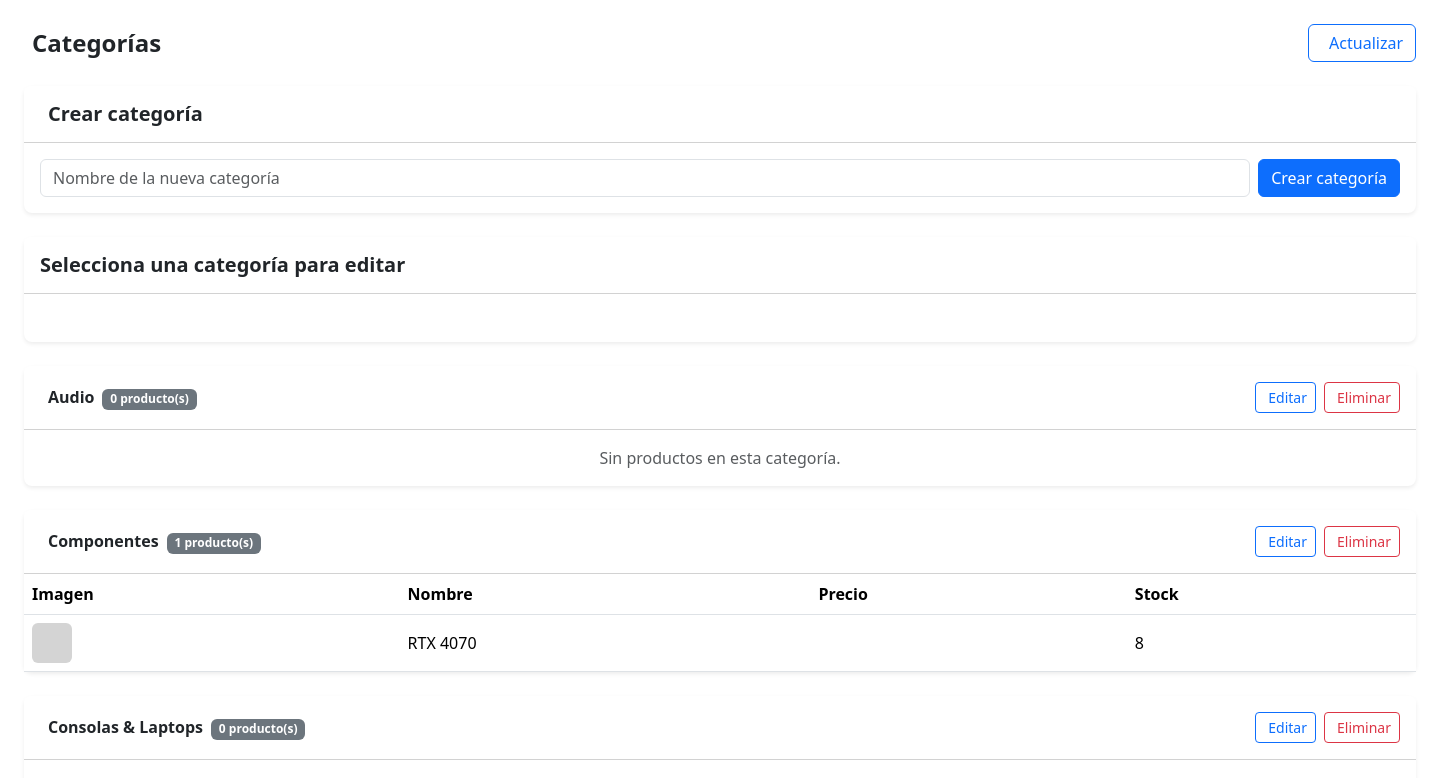
AdminCategorias › crear › al crear vacía el campo y vuelve a cargar las tablas
The image size is (1440, 778).
Type "Redes" into the field with placeholder "Nombre de la nueva categoría".
click(645, 178); type("Redes")  # box [40, 159, 1250, 197]
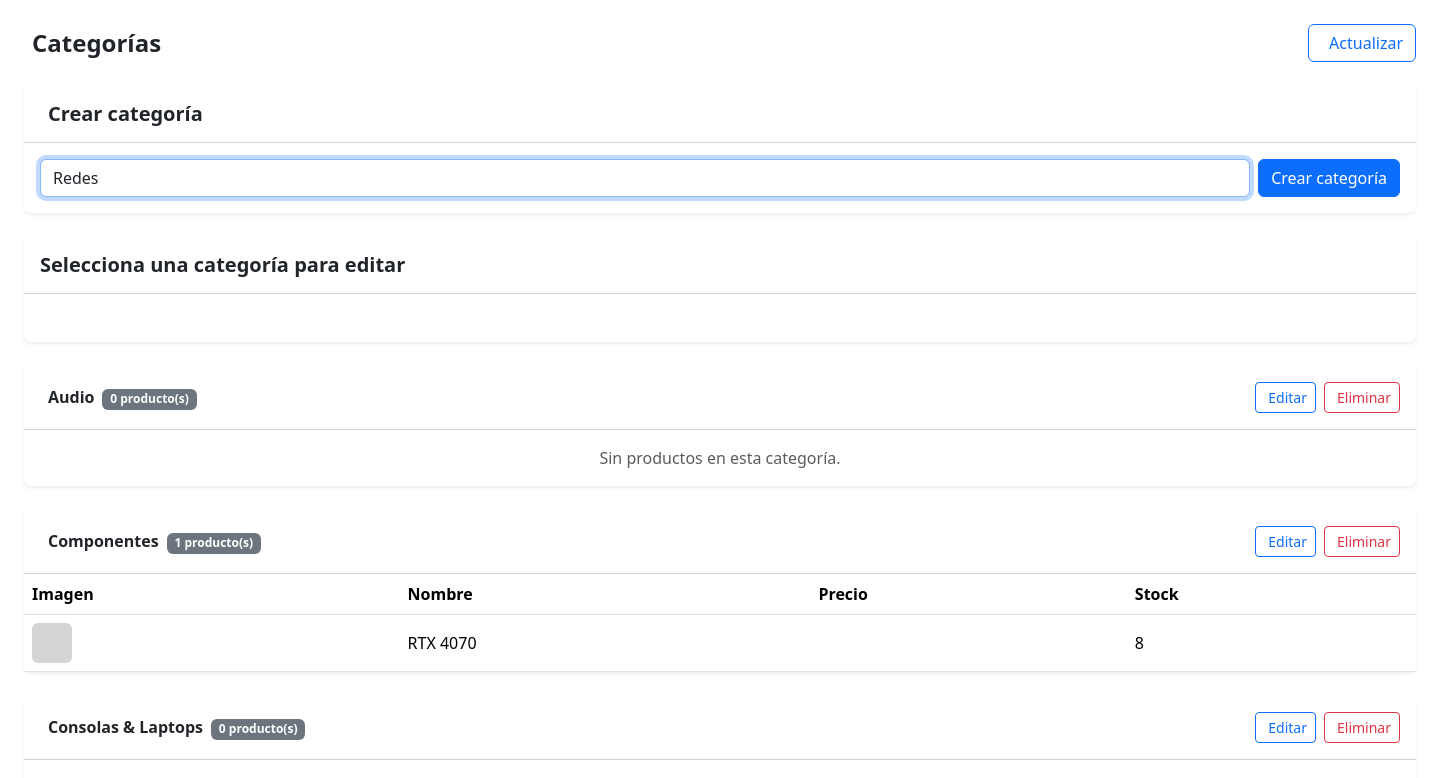
Click the button "Crear categoría".
click(1329, 178)  # box [1258, 159, 1400, 197]
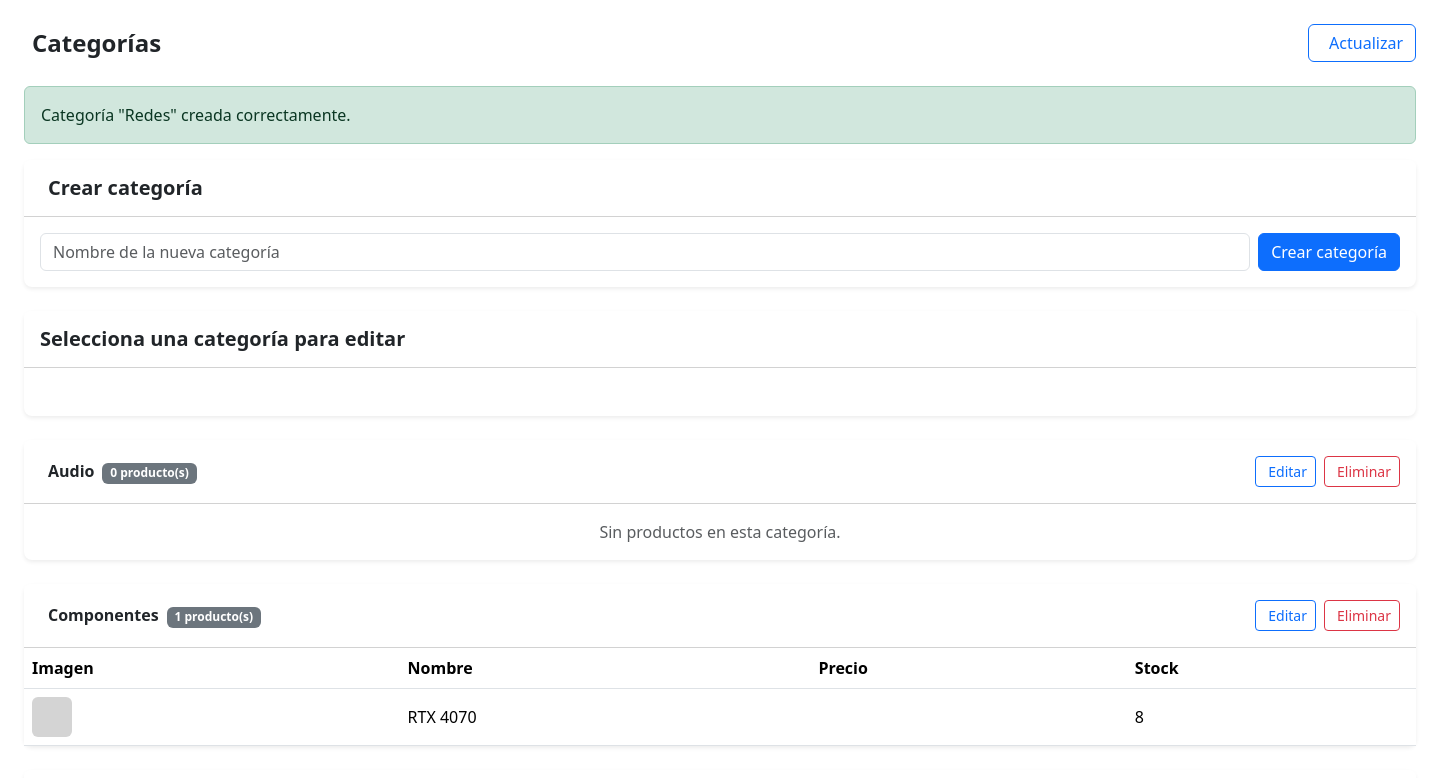
Expected: the text "Categoría \"Redes\" creada correctamente." is shown, [24, 86, 1416, 144]
Expected: the field with placeholder "Nombre de la nueva categoría" is empty, [40, 233, 1250, 271]
